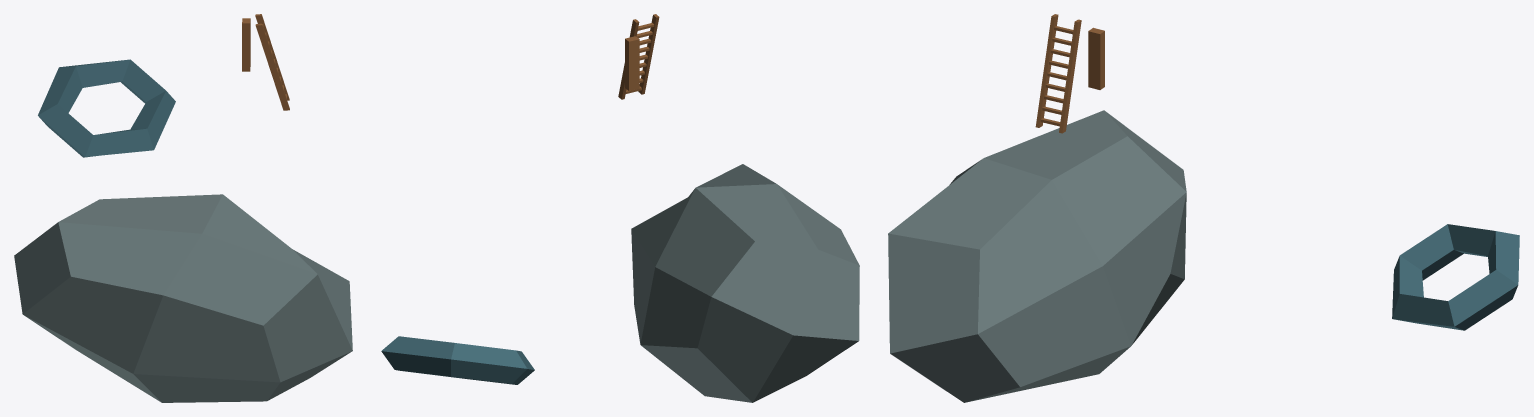
3 views of the same model, side by side, from view 1: azimuth 30°, elevation 25°; view 2: azimuth 150°, elevation 25°; view 3: azimuth 270°, elevation 25° (orthographic). The views are drawn at different scales.
Parts seen in each view (by area): view 1: Box269_rock_0, Torus043_metal_0, Box622_brown_0, Box624_brown_0; view 2: Box269_rock_0, Torus043_metal_0, Box622_brown_0, Box624_brown_0; view 3: Box269_rock_0, Torus043_metal_0, Box622_brown_0, Box624_brown_0.
Boxes of the visible parts, box(x1,y1,x2,y2) form: Box269_rock_0: box(14, 194, 352, 402); Torus043_metal_0: box(38, 59, 175, 157); Box622_brown_0: box(255, 14, 289, 110); Box624_brown_0: box(242, 18, 250, 71); Box269_rock_0: box(631, 164, 859, 402); Torus043_metal_0: box(381, 336, 534, 384); Box622_brown_0: box(618, 14, 659, 99); Box624_brown_0: box(625, 36, 639, 90); Box269_rock_0: box(888, 110, 1186, 402); Torus043_metal_0: box(1392, 224, 1519, 330); Box622_brown_0: box(1035, 14, 1081, 133); Box624_brown_0: box(1088, 27, 1104, 89).
Size of the model in its own units: 853 by 910 by 1312.
